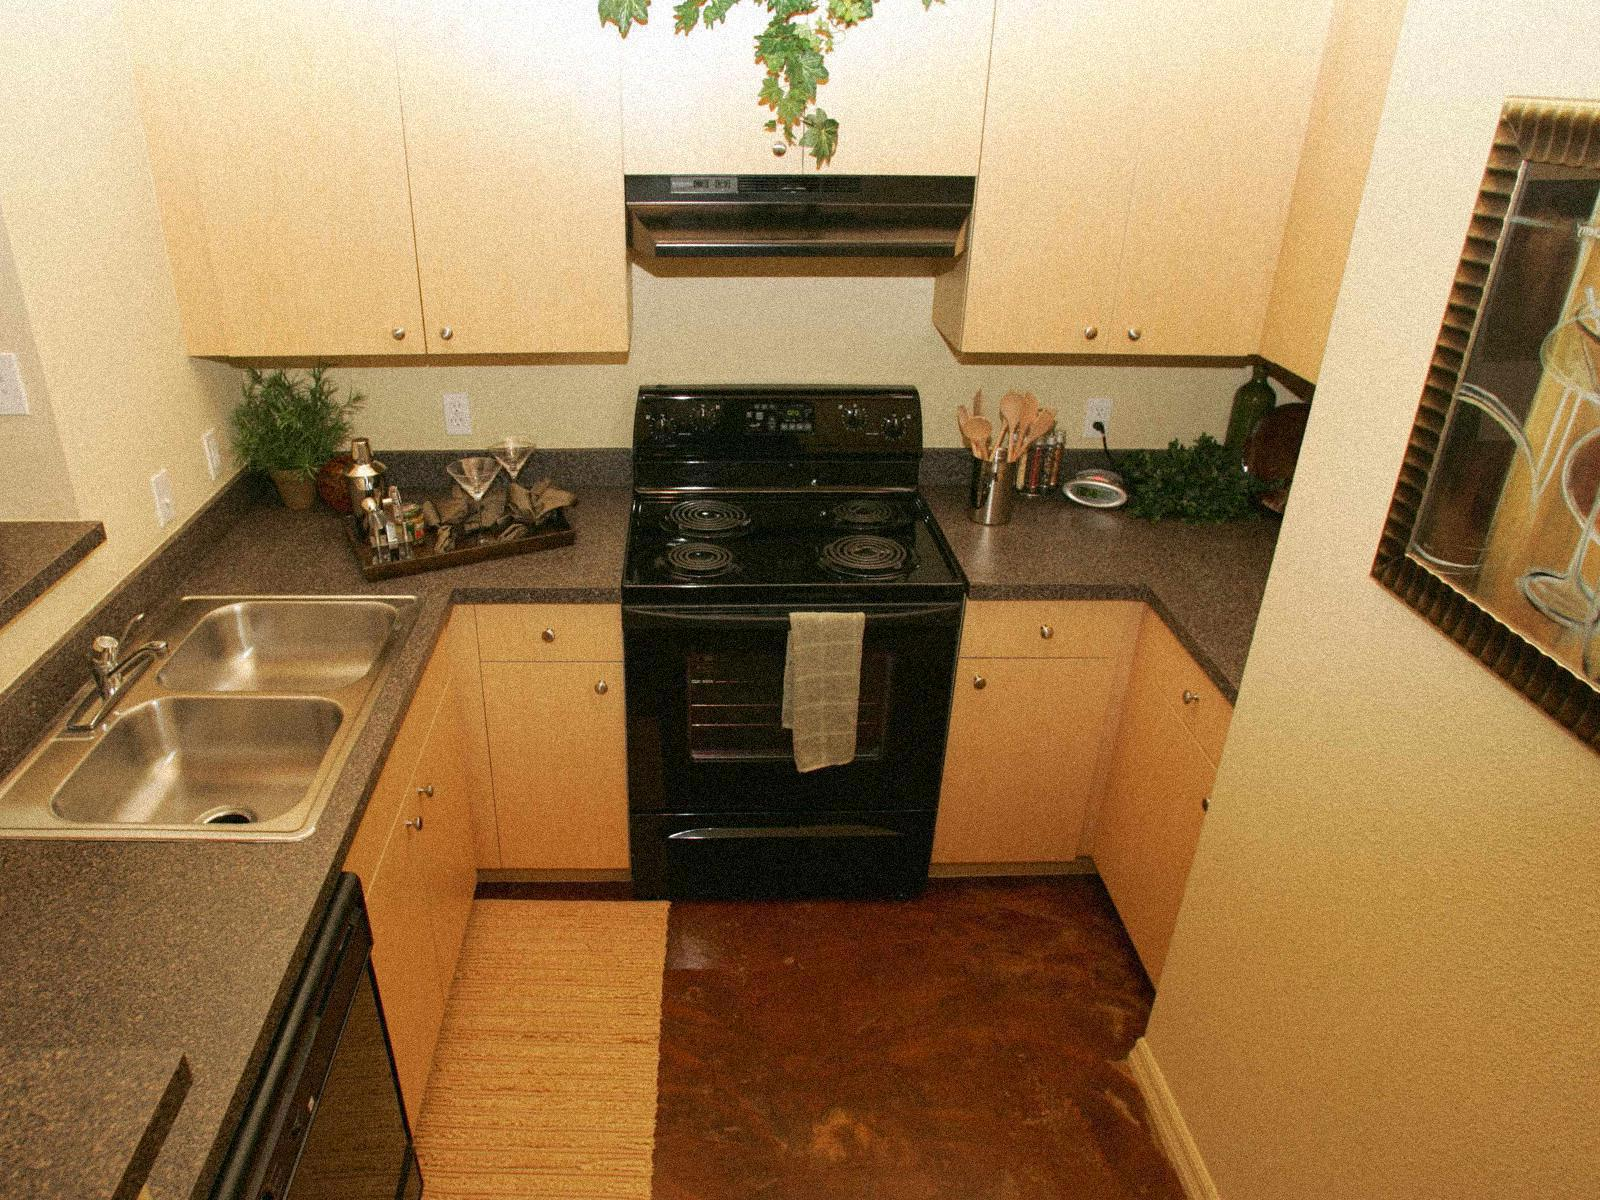Electrodomestico: (632, 412, 947, 901), (272, 865, 430, 1194)
Lavaplatos: (11, 565, 426, 852)
